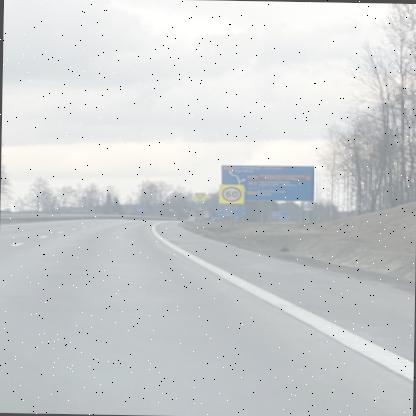speedlimit: (219, 185, 240, 200)
